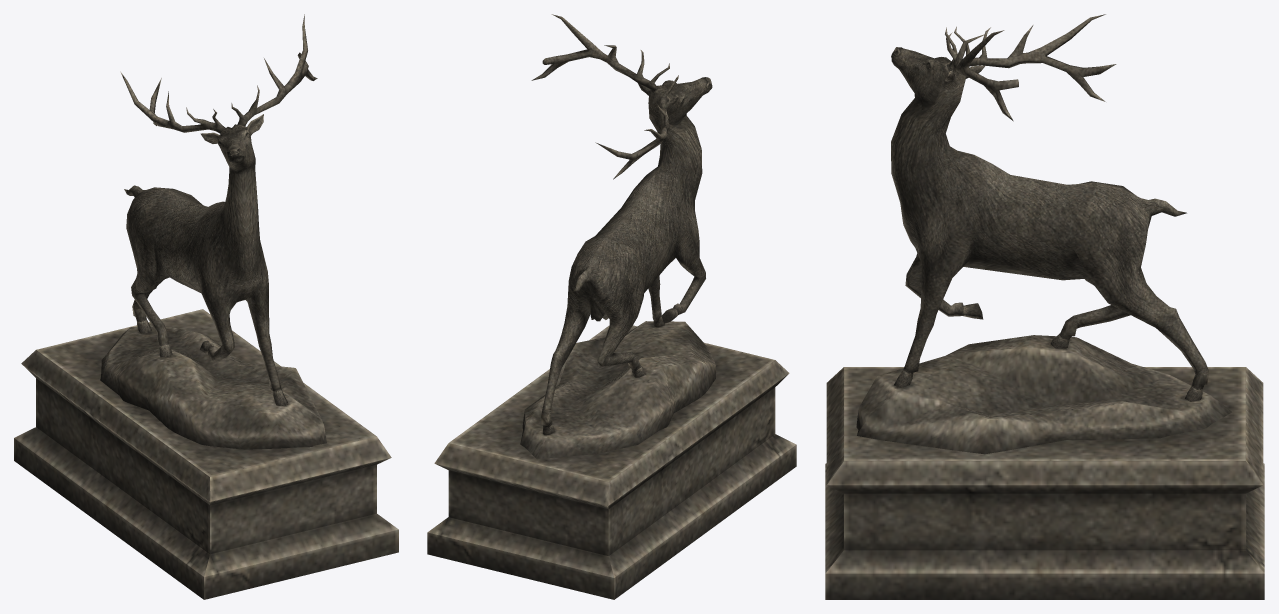
The model's file is deerStatue.dae.
3 renders of one model, left to right at view 1: azimuth 30°, elevation 25°; view 2: azimuth 150°, elevation 25°; view 3: azimuth 270°, elevation 25°, orthographic. The views are drawn at different scales.
Parts seen in each view (by area): view 1: Deer_statue; view 2: Deer_statue; view 3: Deer_statue.
Part boxes in pixels (box(x1,y1,x2,y2)): Deer_statue: box(14, 14, 398, 599); Deer_statue: box(427, 14, 796, 599); Deer_statue: box(825, 14, 1264, 599).
Bounding box in the file's own units: 1.43 × 3.41 × 2.42.
1 material, 1 textured.
